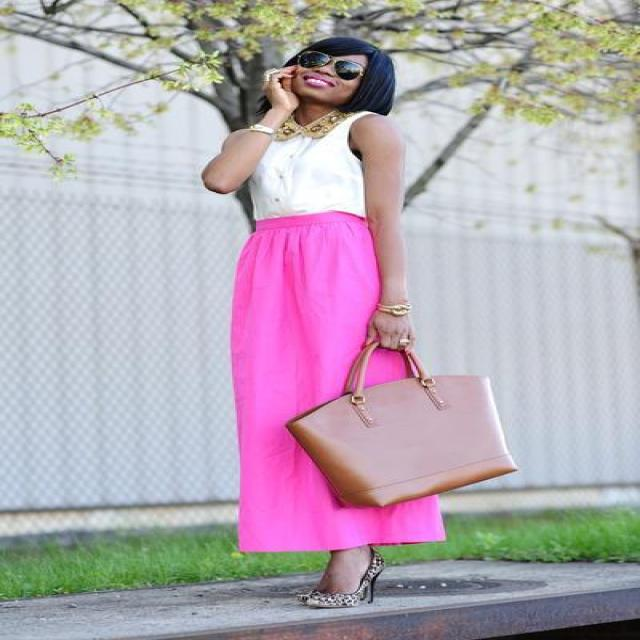bag: (285, 323, 509, 509)
shirt: (251, 115, 365, 217)
shoe: (334, 576, 372, 605)
skirt: (230, 210, 445, 552)
sunglass: (288, 54, 365, 88)
